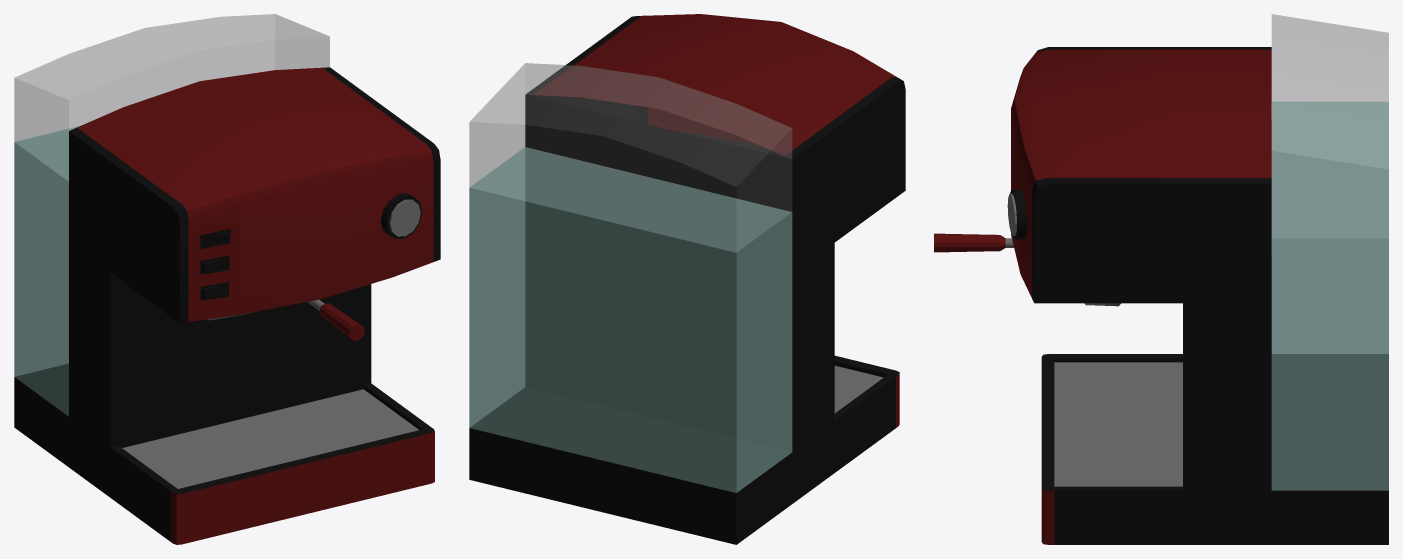
Rendered from Coffee Machine.fbx.
3 renders of one model, left to right at view 1: azimuth 30°, elevation 25°; view 2: azimuth 150°, elevation 25°; view 3: azimuth 270°, elevation 25°, orthographic. The views are drawn at different scales.
Parts seen in each view (by area): view 1: Object004, Cylinder005, Object006, Object005, Object003; view 2: Cylinder005, Object003, Object006, Object004, Object005; view 3: Cylinder005, Object003, Object004, Object006, Object005.
Part boxes in pixels (left/top/right/bottom): Object004: left=77, top=67, right=434, bottom=544; Cylinder005: left=14, top=67, right=440, bottom=541; Object006: left=14, top=14, right=329, bottom=181; Object005: left=122, top=199, right=420, bottom=488; Object003: left=14, top=126, right=79, bottom=416; Cylinder005: left=469, top=15, right=905, bottom=544; Object003: left=469, top=147, right=792, bottom=492; Object006: left=469, top=63, right=792, bottom=252; Object004: left=534, top=14, right=899, bottom=427; Object005: left=834, top=365, right=883, bottom=413; Cylinder005: left=1010, top=47, right=1388, bottom=544; Object003: left=1271, top=101, right=1388, bottom=490; Object004: left=934, top=49, right=1271, bottom=544; Object006: left=1271, top=14, right=1388, bottom=238; Object005: left=1005, top=193, right=1182, bottom=486.
Bounding box in the file's own units: 23.35 × 32.93 × 32.84.
